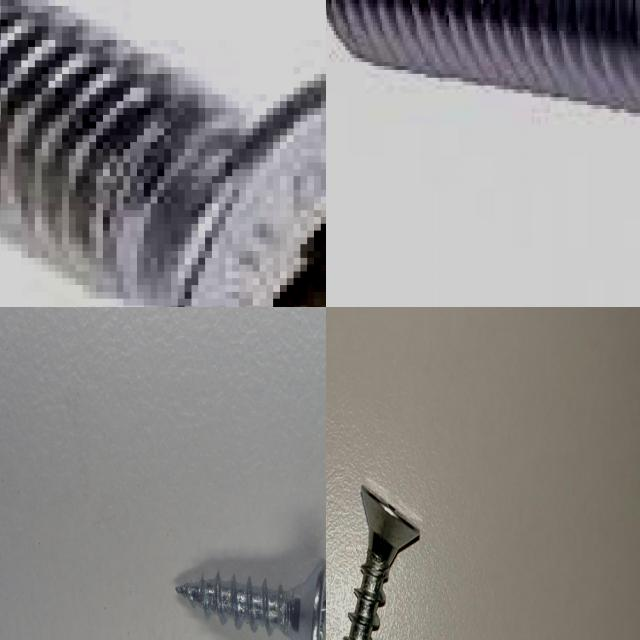Screw: (0, 0, 326, 307), (326, 0, 640, 112), (176, 559, 326, 640), (343, 484, 420, 640)
